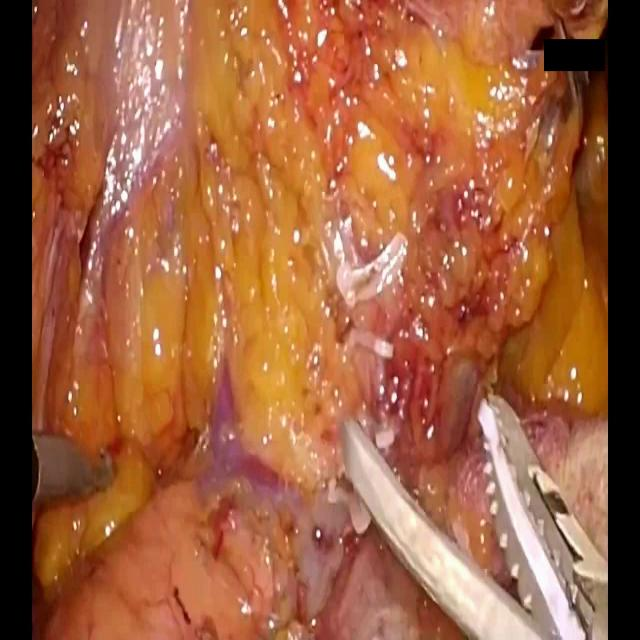surgical-area: (30, 0, 608, 639)
surgical-tool: (340, 394, 608, 639), (30, 435, 112, 501)
